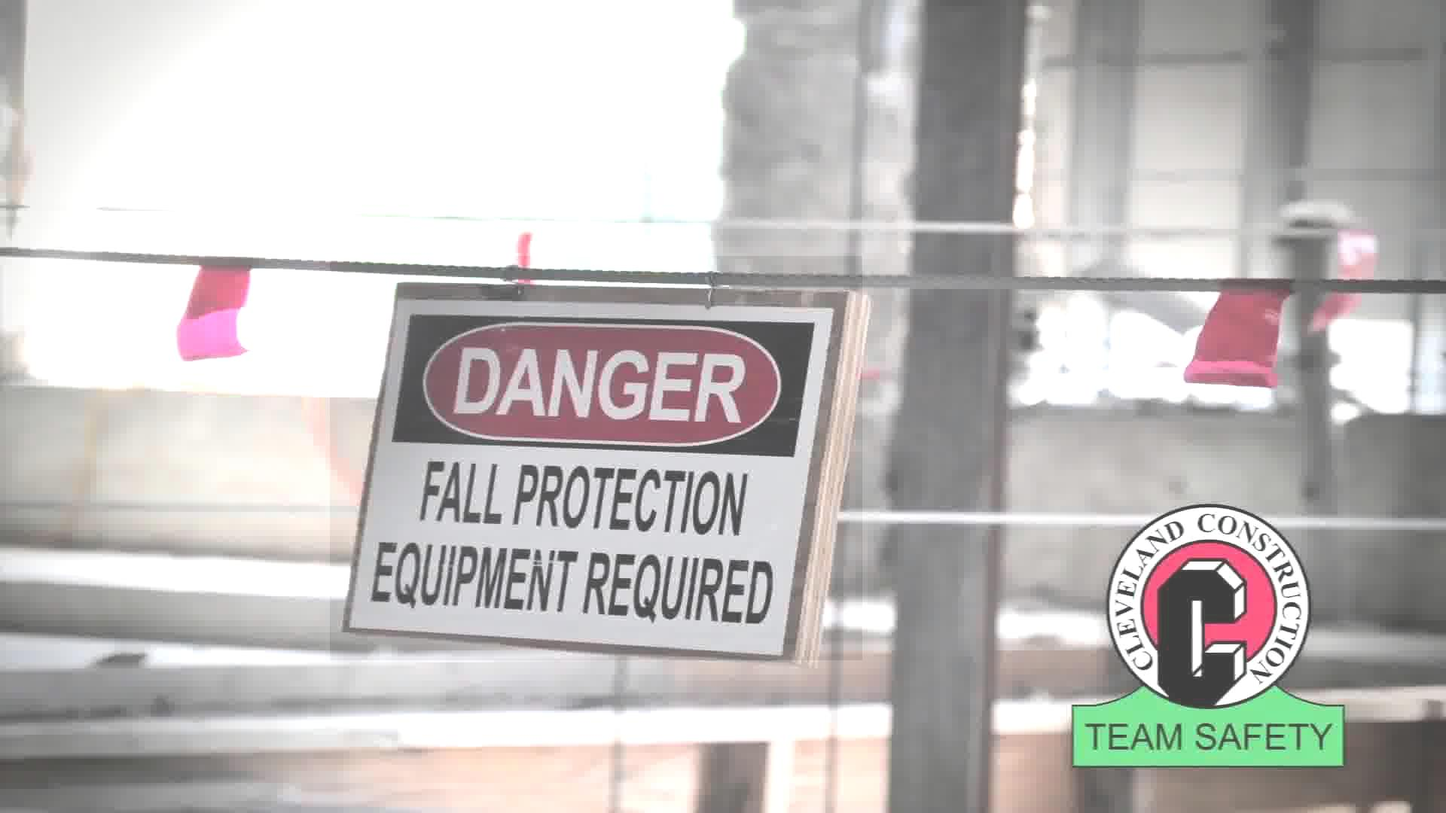safety_signage: (330, 256, 862, 660)
